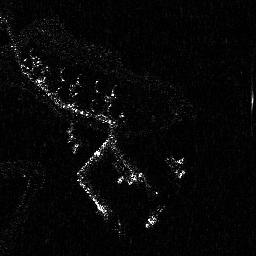ship: (146, 201, 166, 227)
